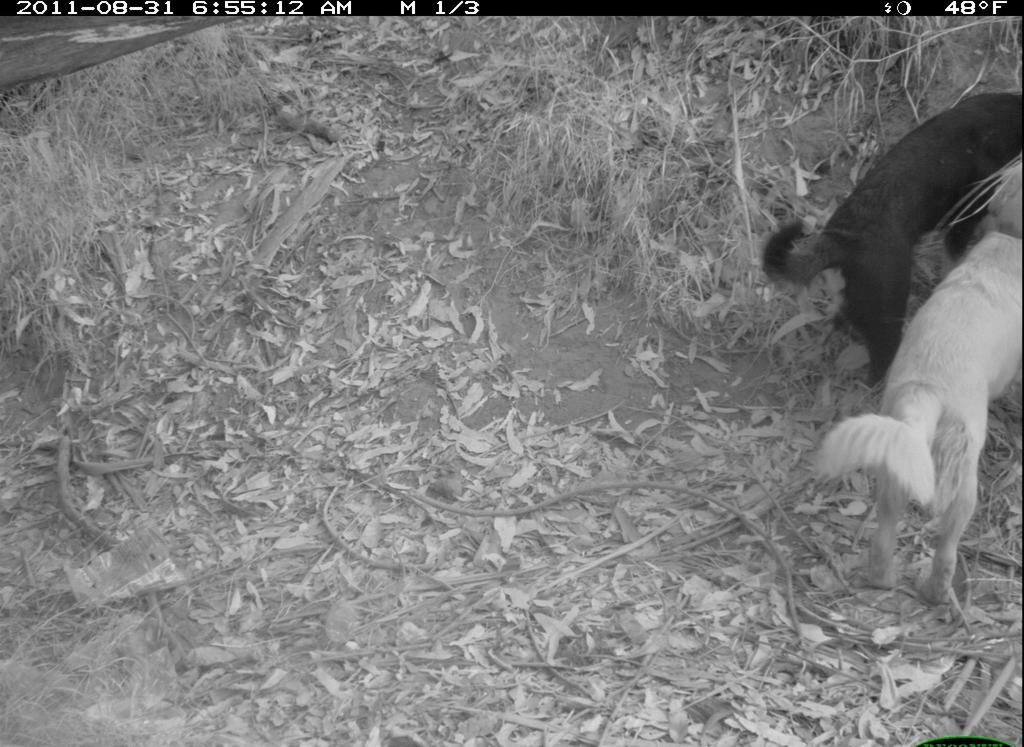dog: (804, 223, 1019, 615), (765, 81, 1021, 388)
